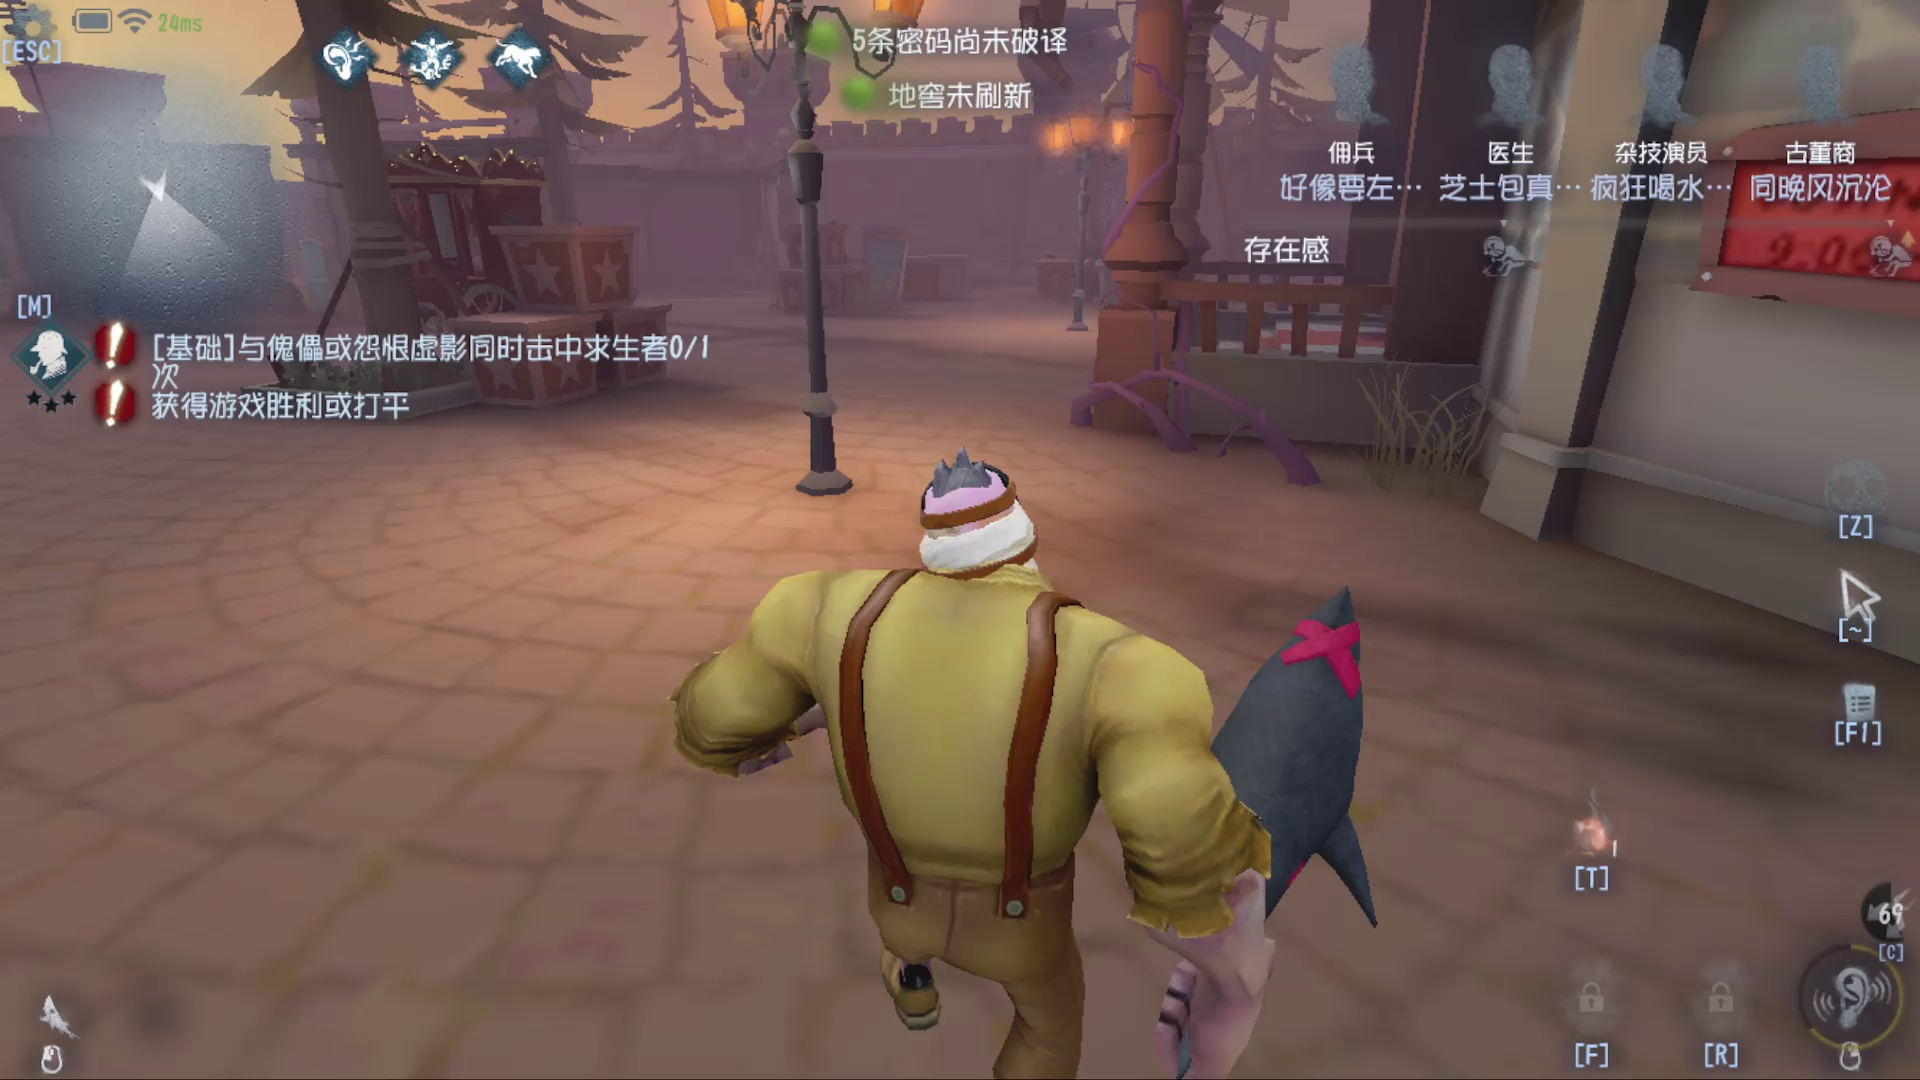木板: (851, 237, 922, 316), (289, 231, 344, 323)
